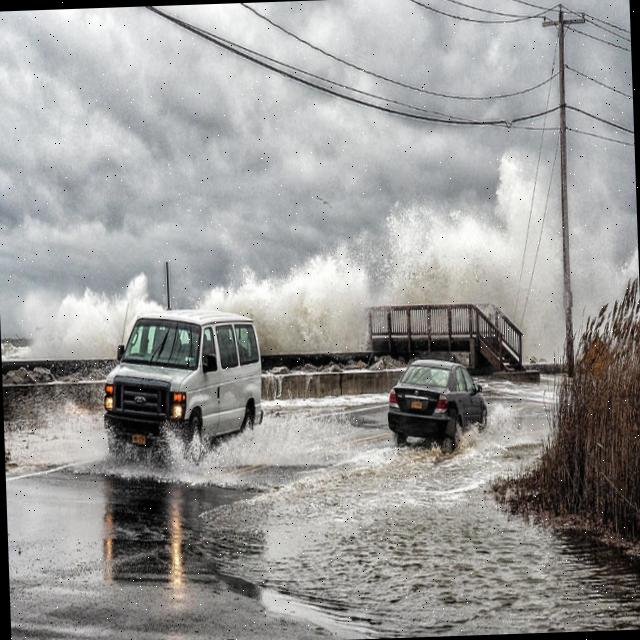car: (100, 306, 268, 469), (384, 354, 490, 452)
